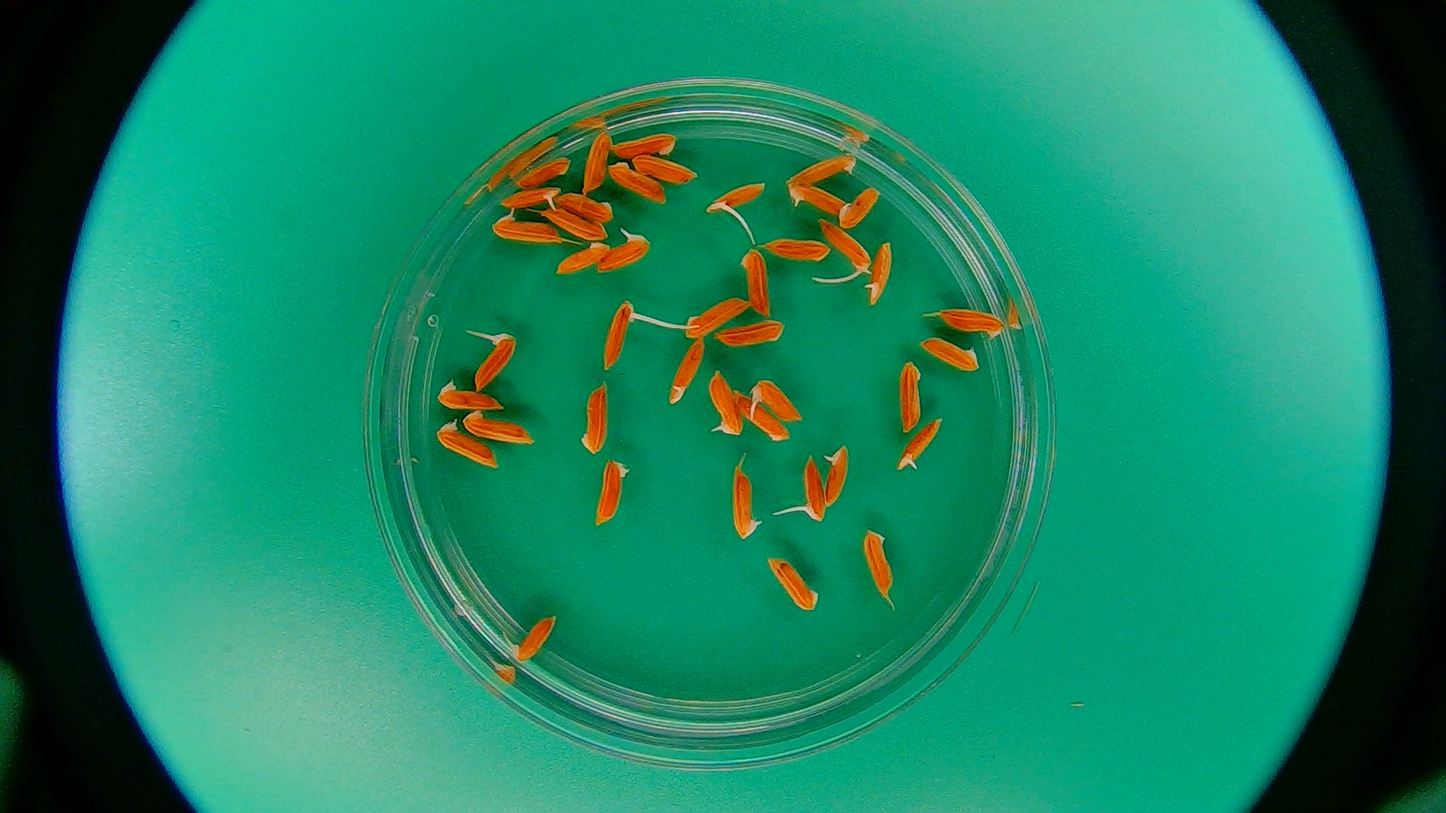no: (433, 413, 502, 472), (534, 200, 610, 242), (767, 553, 821, 612), (936, 306, 1010, 345), (859, 527, 897, 598), (578, 379, 612, 457), (778, 151, 857, 184), (432, 376, 506, 411), (593, 460, 631, 528), (463, 410, 533, 446), (548, 189, 615, 226), (667, 342, 705, 406), (921, 333, 978, 373), (740, 247, 773, 315), (553, 242, 612, 279), (608, 163, 662, 203), (738, 403, 786, 445), (633, 153, 695, 184), (897, 361, 924, 431), (686, 299, 743, 331), (763, 236, 830, 263), (581, 130, 610, 192), (838, 187, 880, 229), (720, 322, 787, 347), (517, 157, 572, 187), (612, 135, 678, 158)
yes: (485, 202, 562, 243), (821, 218, 876, 270), (897, 416, 940, 475), (470, 333, 514, 390), (602, 300, 636, 373), (595, 230, 648, 276), (705, 179, 765, 217), (708, 370, 742, 435), (731, 470, 759, 544), (749, 382, 800, 422), (823, 444, 853, 510), (799, 453, 825, 526), (517, 615, 558, 661), (866, 241, 892, 312), (789, 184, 841, 213), (500, 188, 560, 210)
